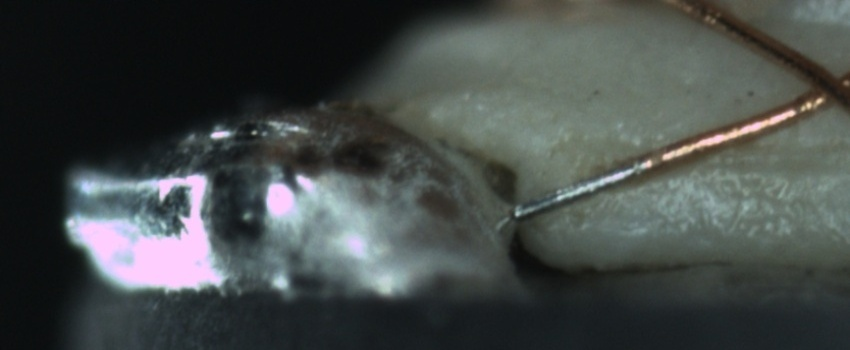CL: (777, 50, 849, 118)
DL: (669, 132, 850, 196)
TS: (511, 158, 645, 221)
